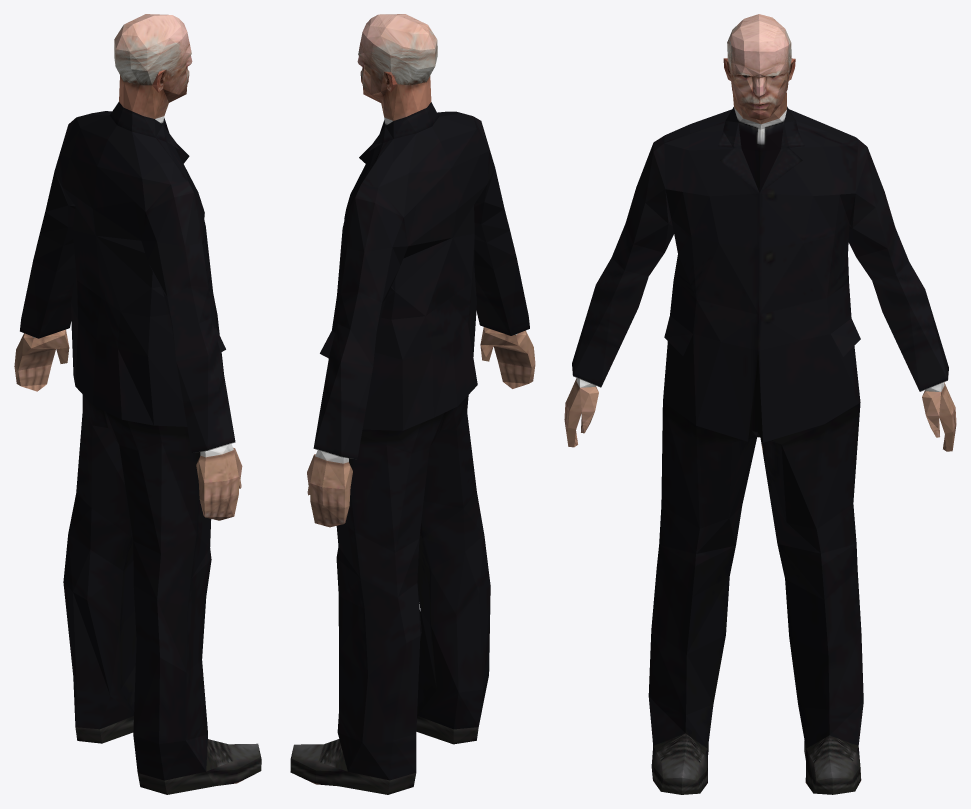
File: wmoprea.obj
3 views of the same model, side by side, from view 1: azimuth 30°, elevation 25°; view 2: azimuth 150°, elevation 25°; view 3: azimuth 270°, elevation 25° (orthographic).
Visible parts, largest first — view 1: _Pelvis; view 2: _Pelvis; view 3: _Pelvis.
Boxes of the visible parts, left/top/right/bottom form: _Pelvis: left=14, top=14, right=261, bottom=794; _Pelvis: left=290, top=14, right=535, bottom=794; _Pelvis: left=564, top=14, right=956, bottom=794.
Size of the model in its own units: 0.3399 by 1.84 by 0.8757.
Materials: 1 (1 with a texture image).
